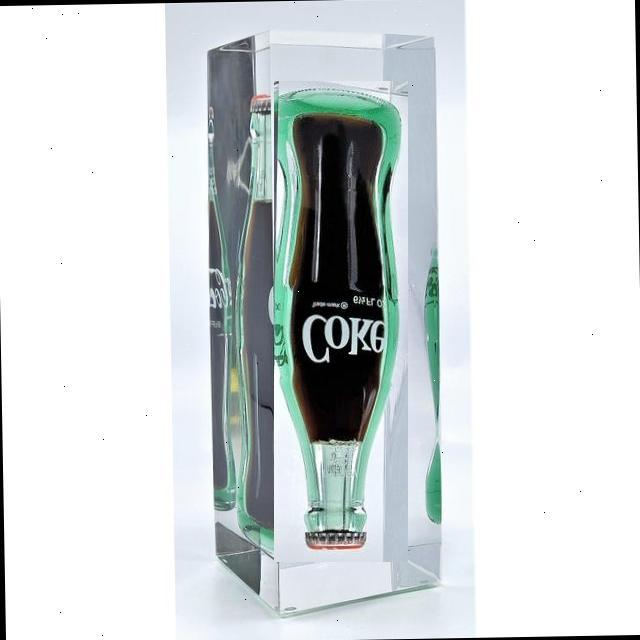coca-cola: (274, 81, 408, 562)
